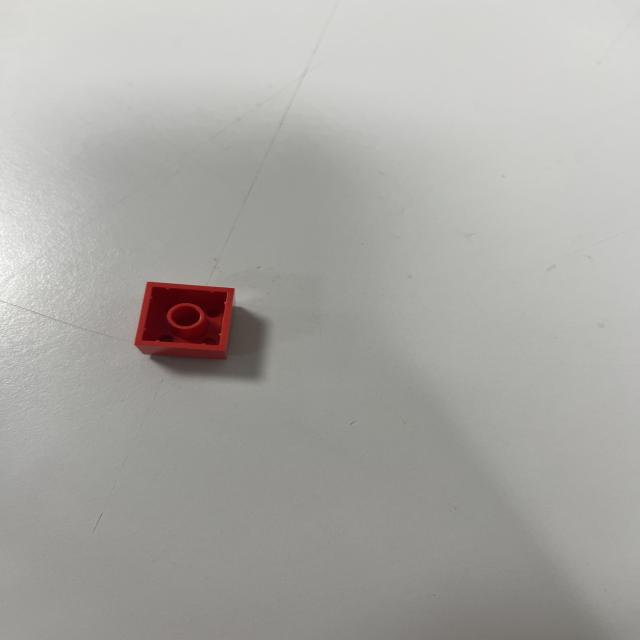C2x2x1: (131, 281, 241, 361)
